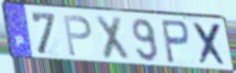7: (29, 10, 59, 57)
9: (131, 18, 161, 64)
P: (159, 18, 192, 66), (61, 13, 93, 58)
X: (93, 14, 132, 63), (191, 21, 230, 69)
